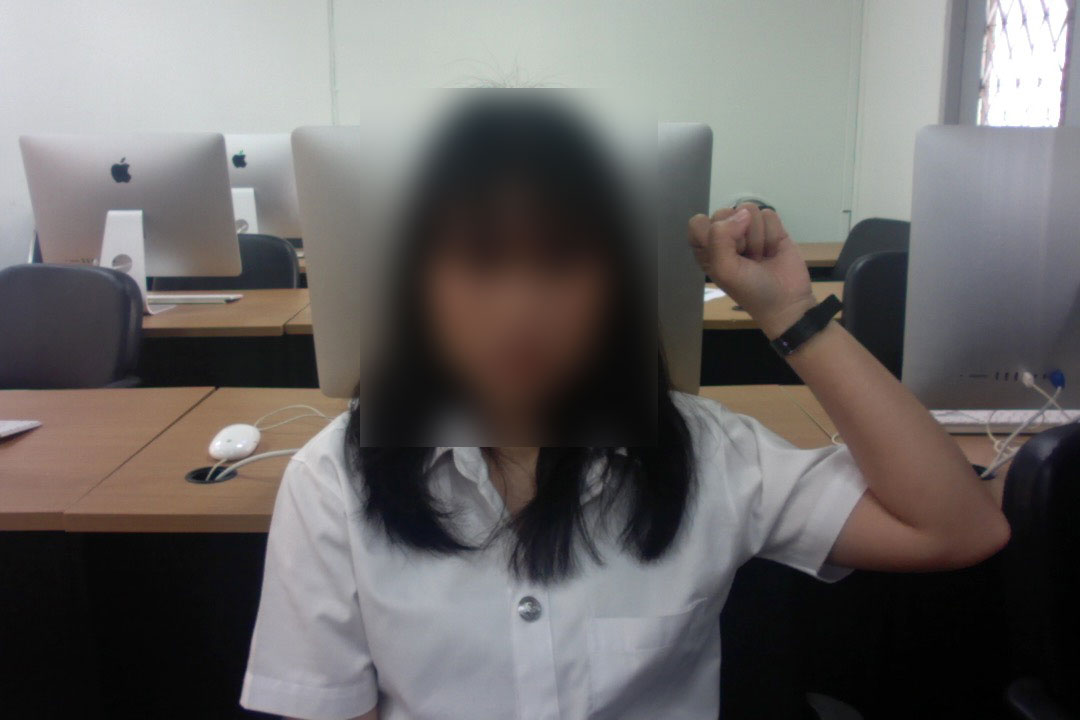sor: (685, 189, 819, 333)
